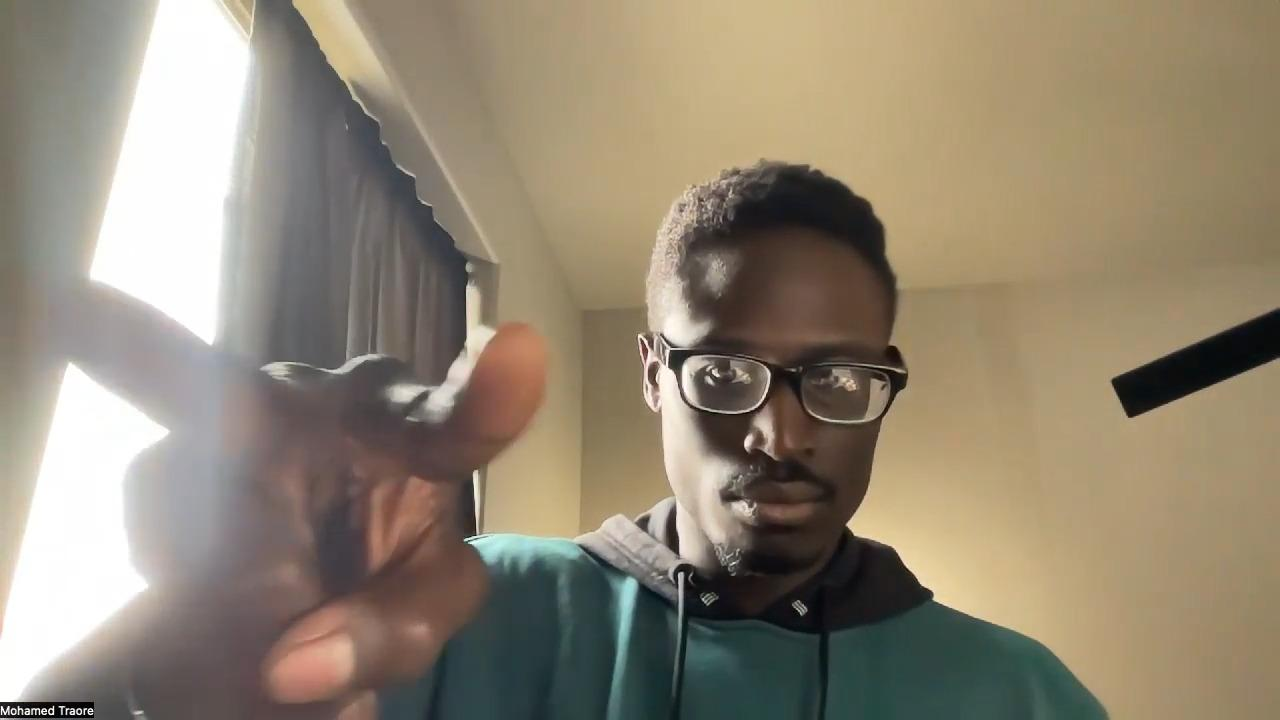Scissors: (12, 272, 549, 714)
